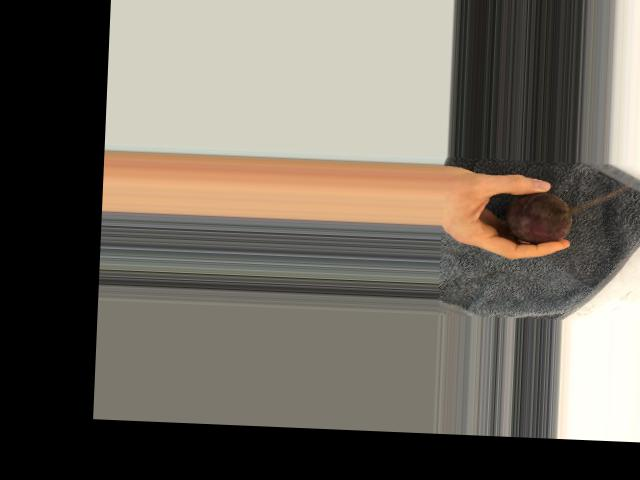beet: (505, 190, 572, 244)
